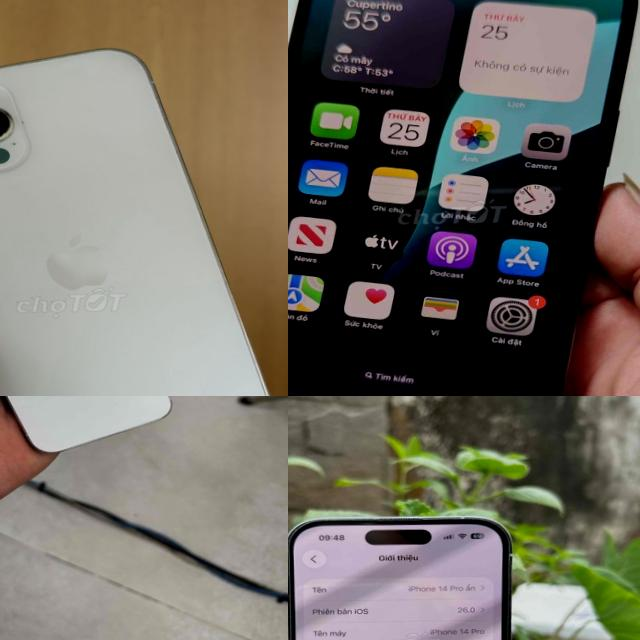gen_12_13: (288, 0, 640, 396), (0, 41, 282, 396)
gen_14: (288, 499, 533, 640)
